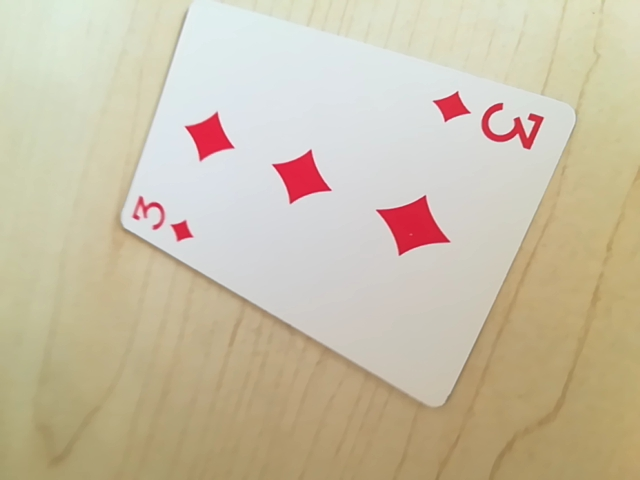fk 3: (428, 93, 548, 151), (126, 190, 194, 246)
